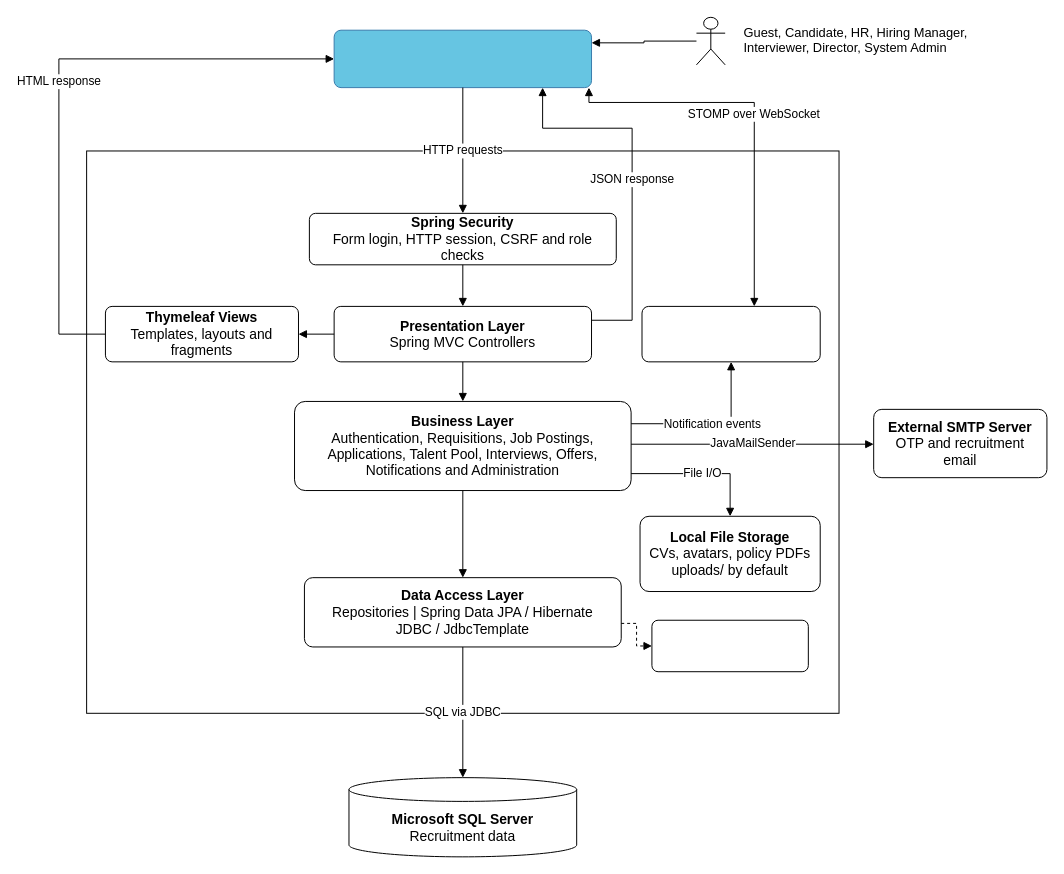
Image size: 1064x874. Some labels were removed from this diagram. The shapes that lost their labels are listed below. From the top down, each one's box as (x1, y1, x2, y2) in pixels, then its label:
(333, 29, 592, 88): Web Browser HTML / CSS / JavaScript
(641, 305, 820, 362): Notification Push WebSocket / STOMP (/ws)
(86, 150, 839, 713): Application Host RMS | Java 21 / Spring Boot 3.5.16
(651, 619, 808, 672): JPA Entities Domain mappings
